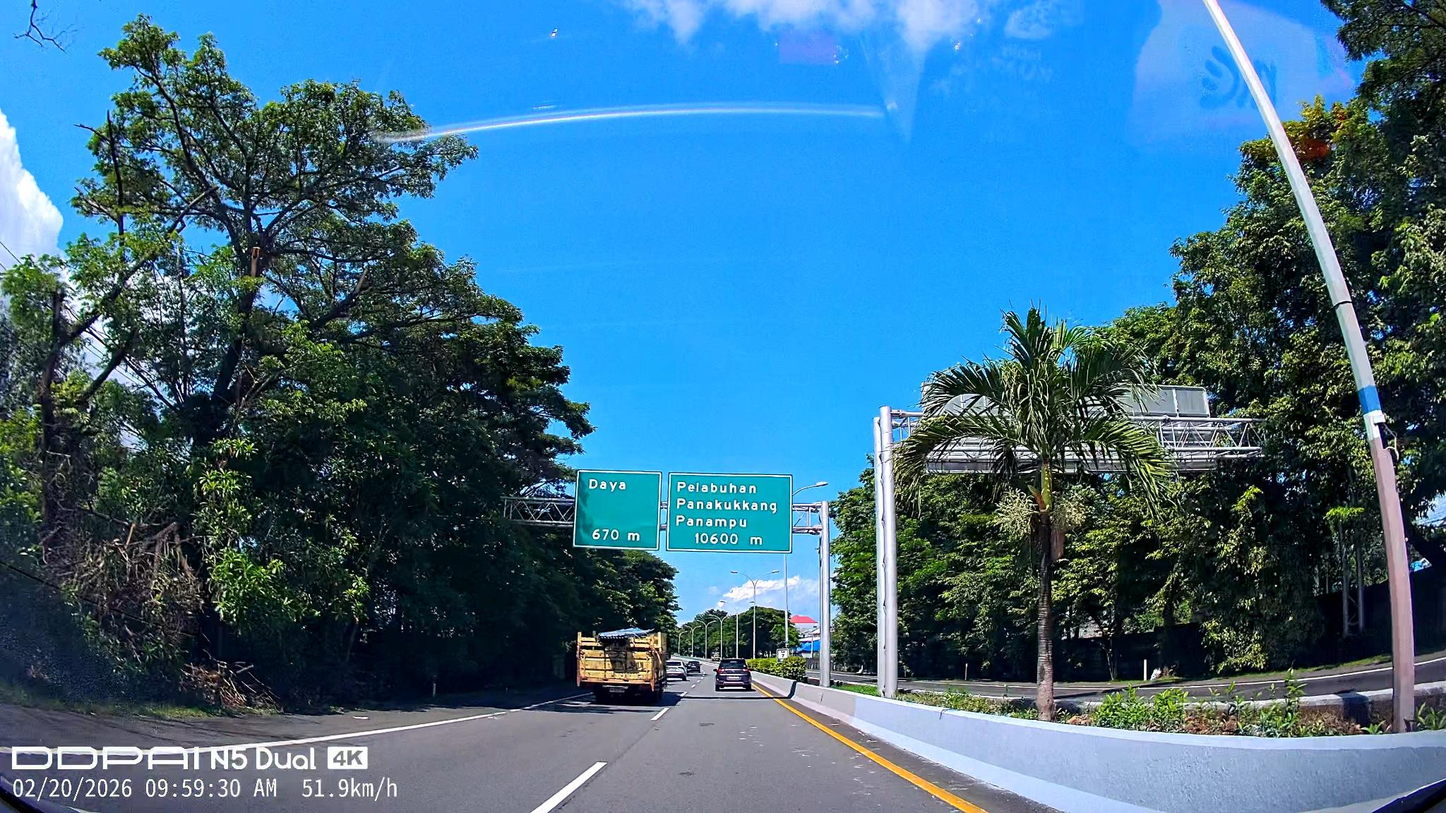rambu_teks: (666, 471, 793, 554), (573, 468, 663, 551)
